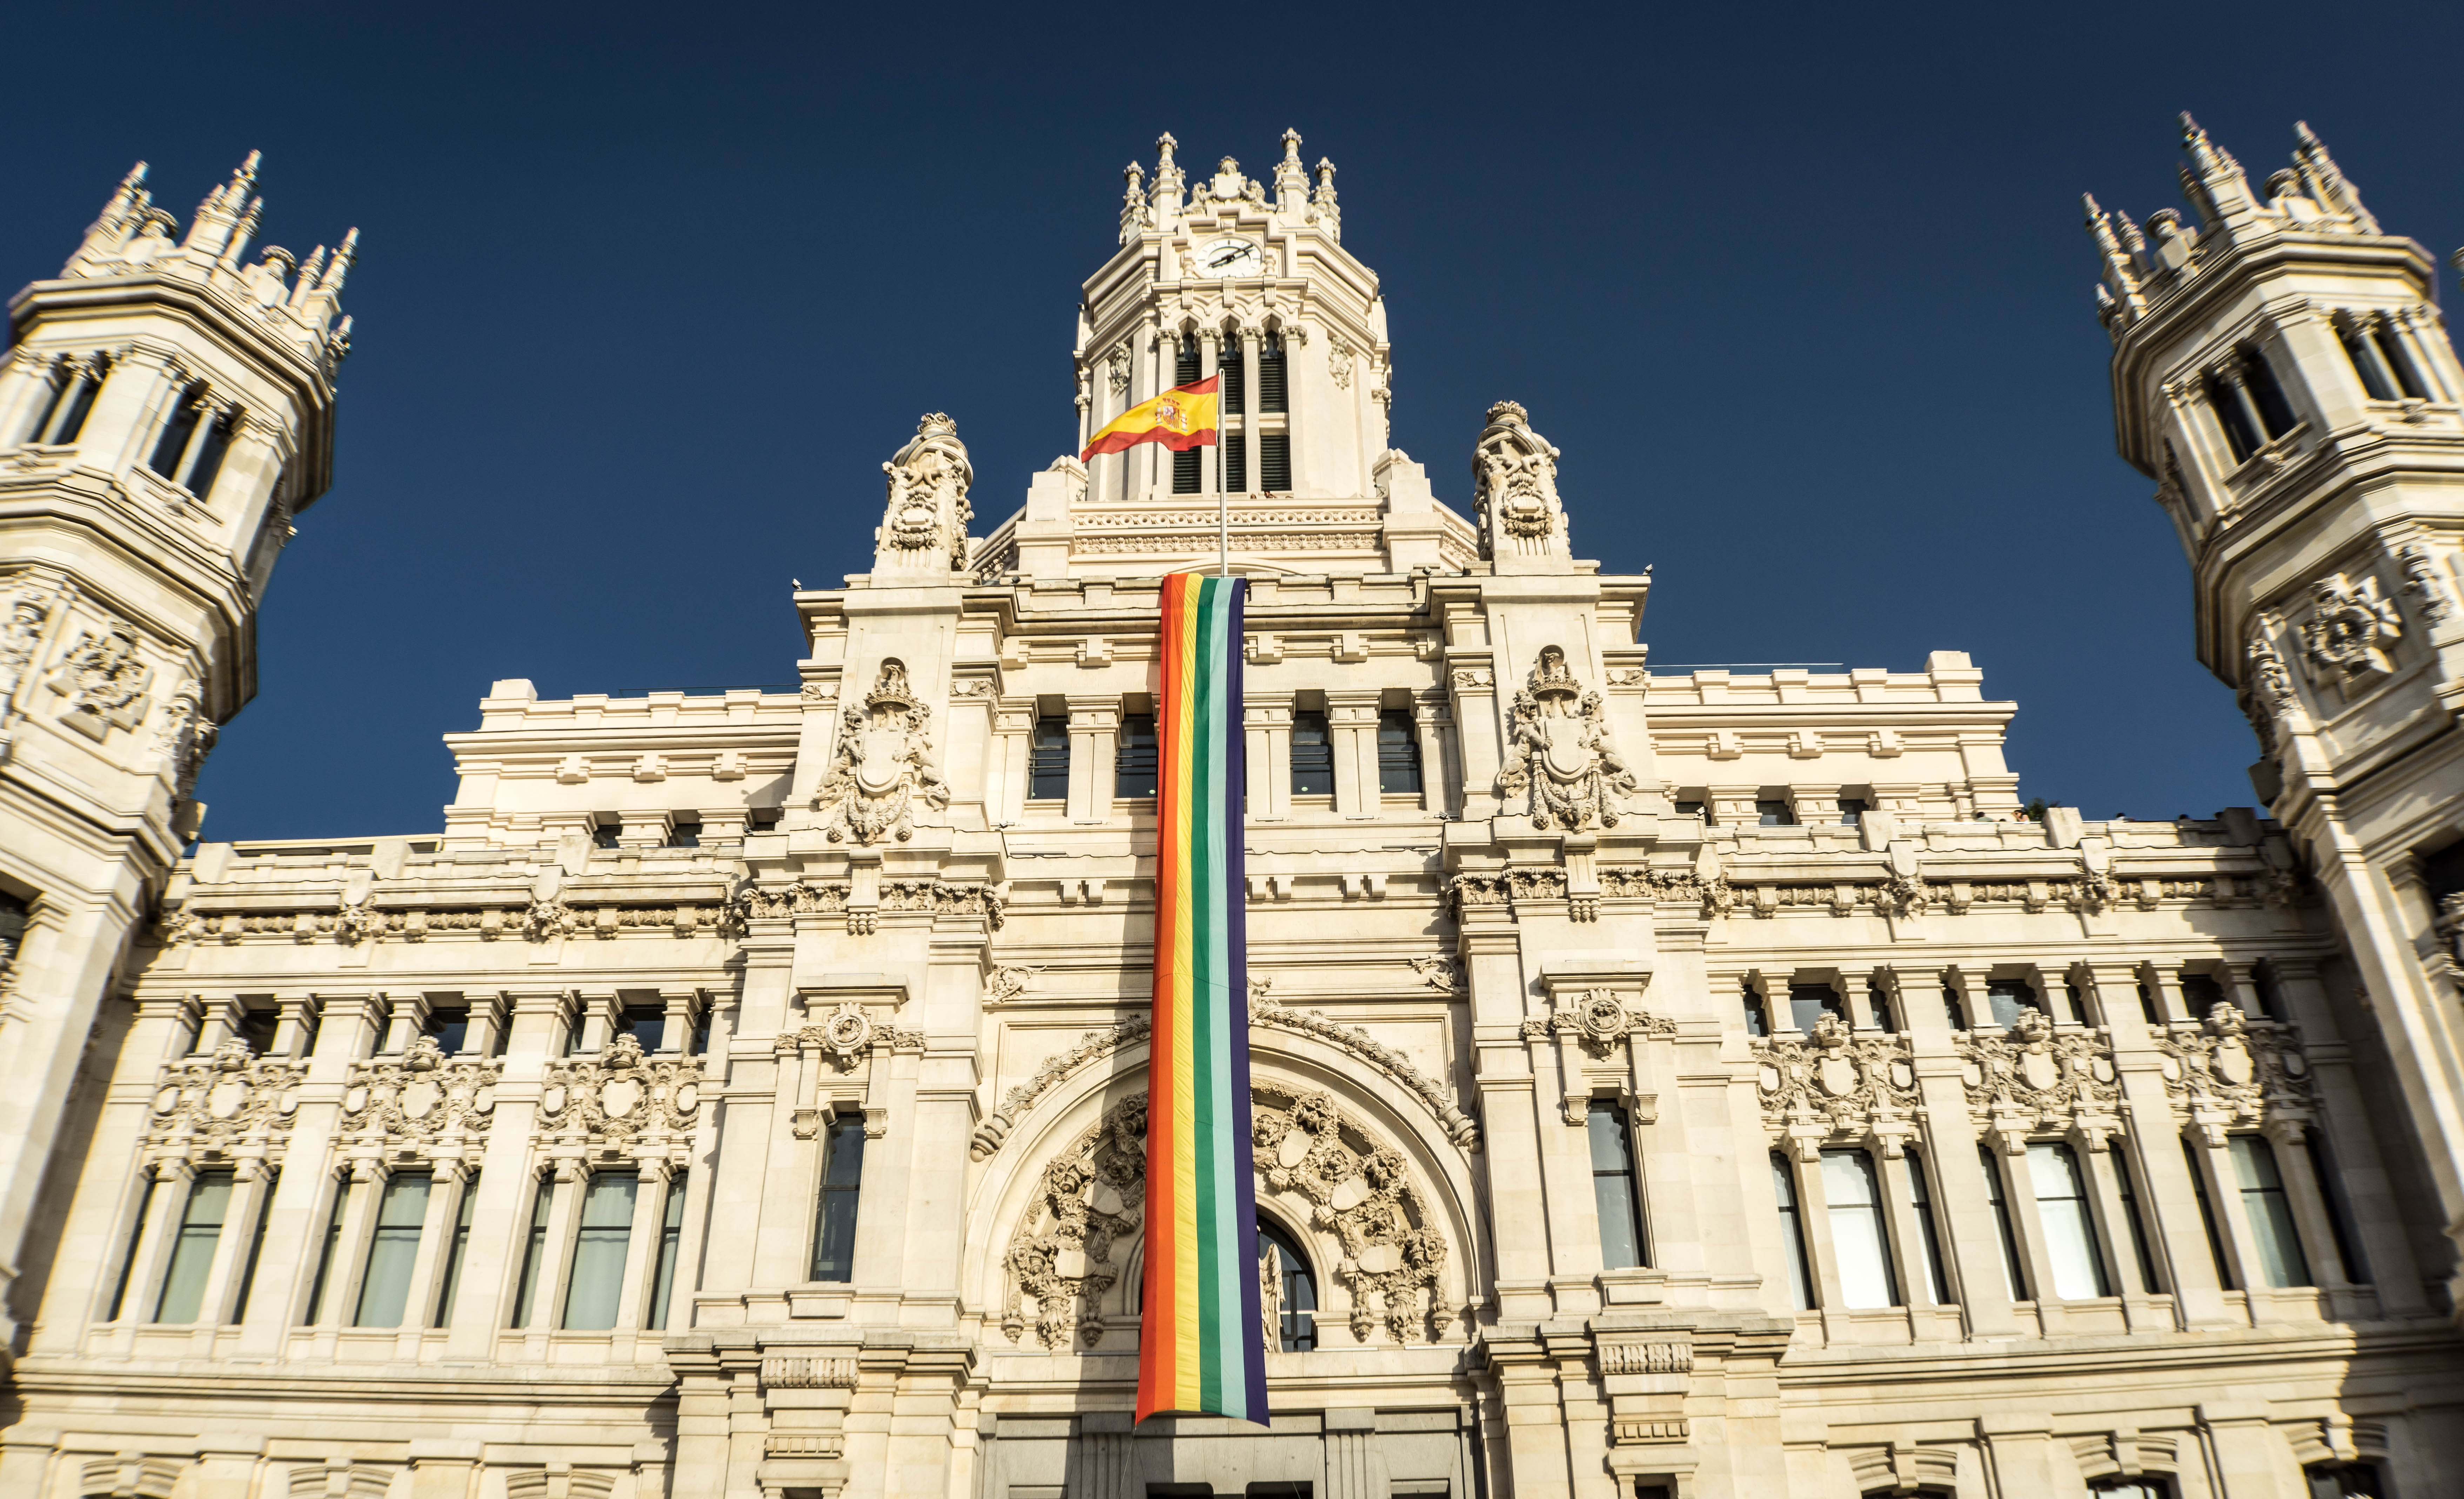Flag: (1068, 366, 1225, 465)
